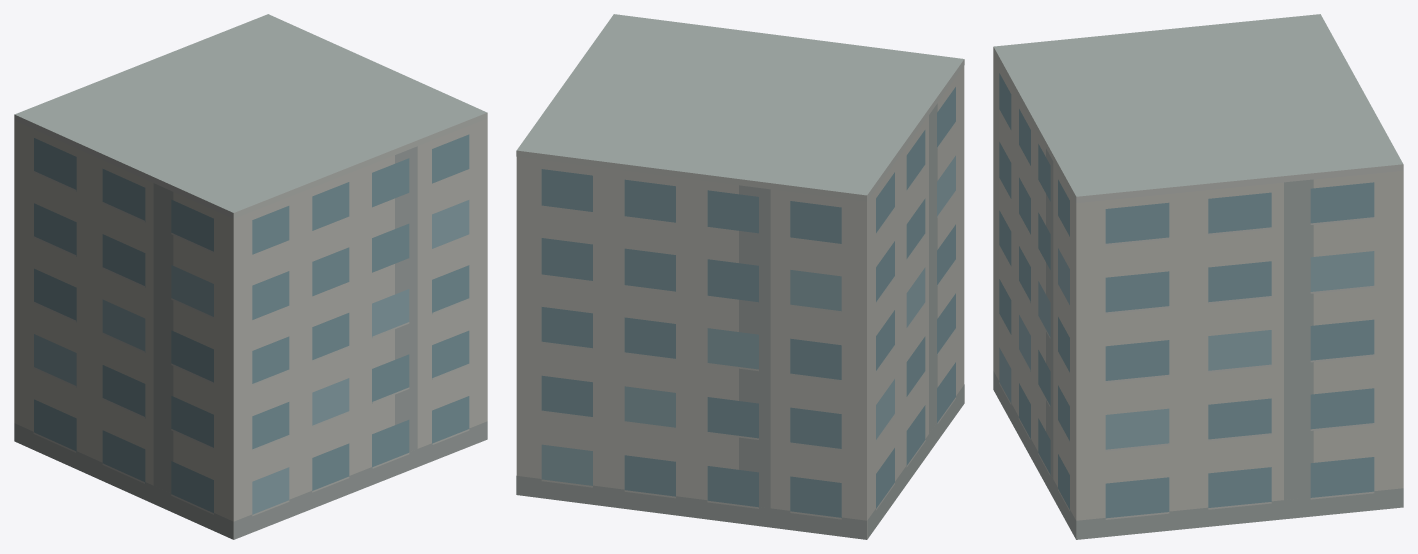
File: survey-upis-32807571.glb
3 views of the same model, side by side, from view 1: azimuth 30°, elevation 25°; view 2: azimuth 150°, elevation 25°; view 3: azimuth 270°, elevation 25° (orthographic). The views are drawn at different scales.
Parts seen in each view (by area): view 1: survey-upis-32807571.tmp; view 2: survey-upis-32807571.tmp; view 3: survey-upis-32807571.tmp.
Part boxes in pixels (x1,y1,x2,y2): survey-upis-32807571.tmp: (14, 14, 487, 539); survey-upis-32807571.tmp: (516, 14, 964, 539); survey-upis-32807571.tmp: (993, 14, 1403, 539).
Size of the model in its own units: 15.26 by 13.35 by 14.47.
